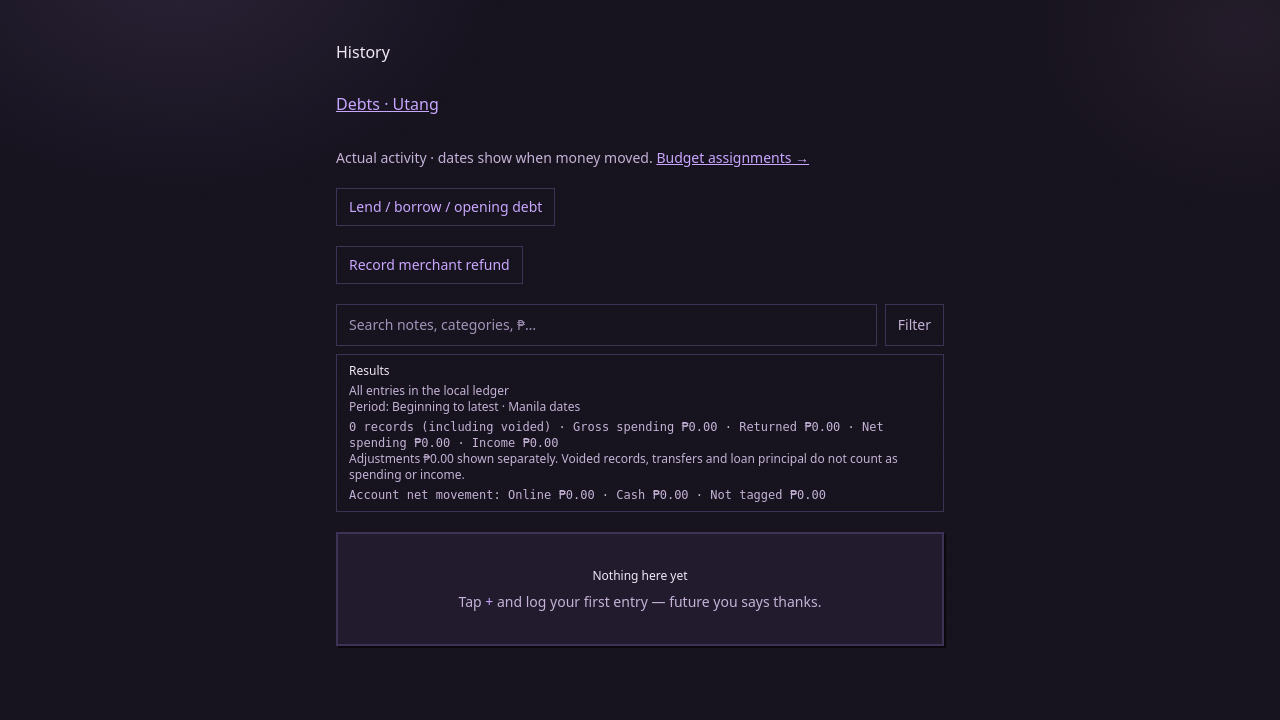
Test: distinguishes empty and no-match results and retains archived category names
The image size is (1280, 720).
Expected: the text "Nothing here yet" is shown, [592,567,688,584]
Type "Retired Food" into the search field at (606, 325), box [336,304,877,346]
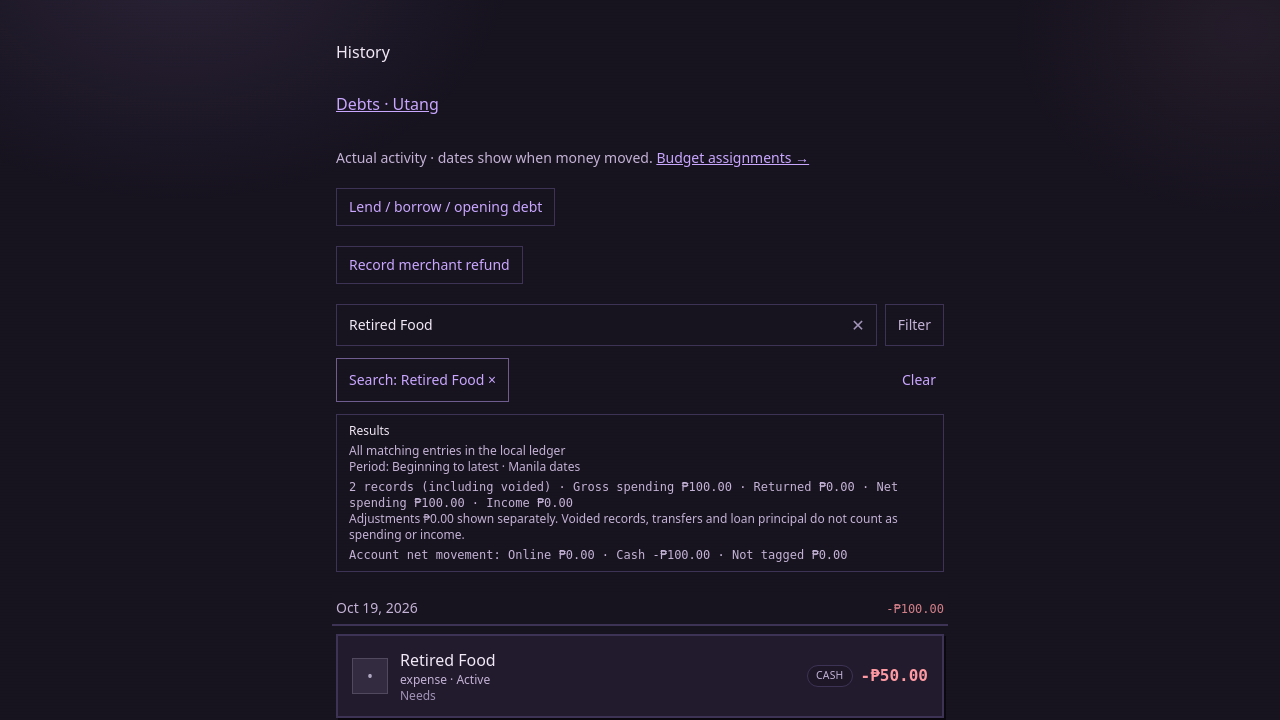
Replace the text in the search field with "missing" at (606, 325), box [336,304,877,346]
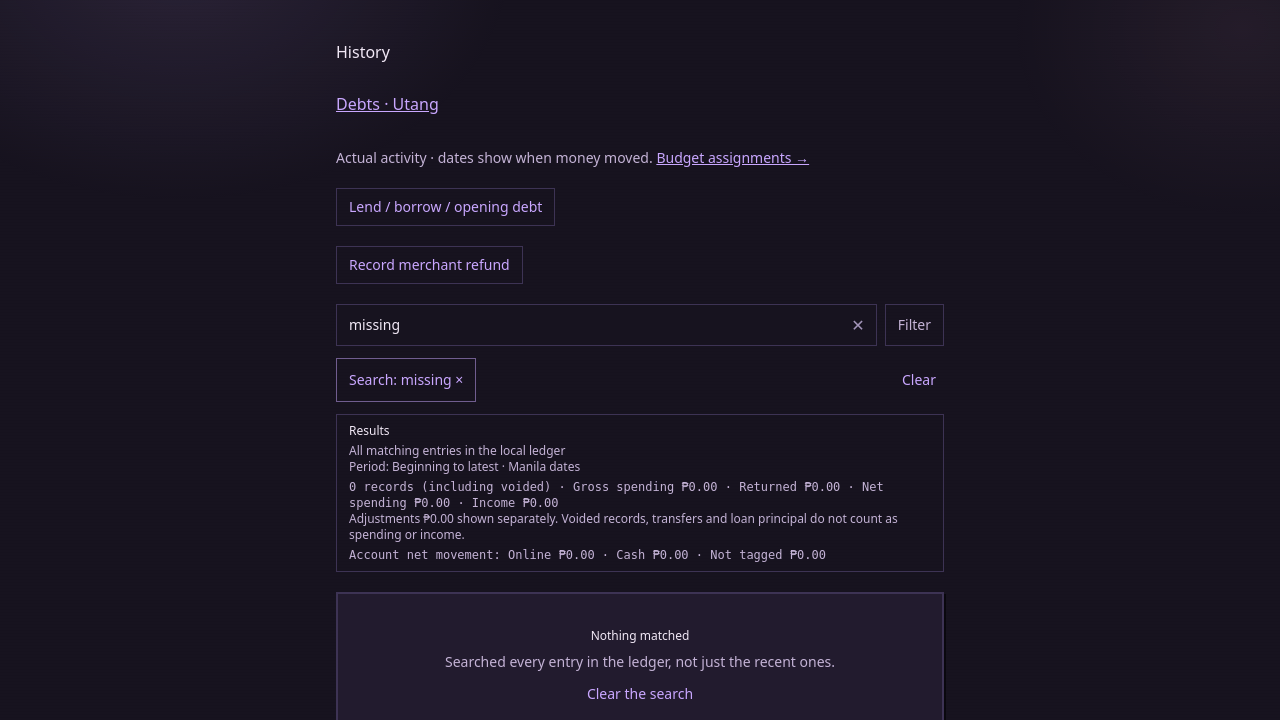
Result: the text "Nothing matched" is shown at [591,627,689,644]
